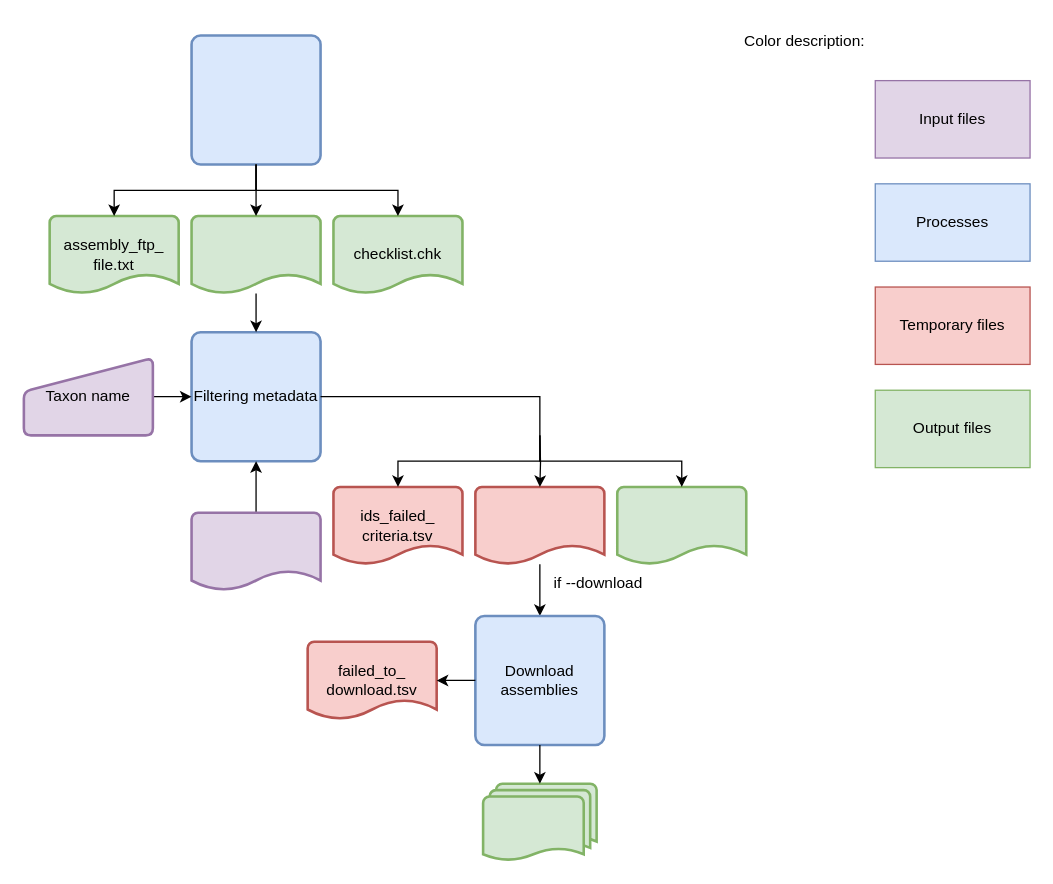
Some shapes in this 1053 by 884 pixel diagram are drawn without their labels. Each missing label, with the centre of its shape:
assemblies_ metadata_ ena661k.tsv: [681,525]
assemblies_ids_to _download.tsv: [539,525]
Criteria table: [255,551]
ena661k_ assemblies: [539,822]
Fetching data relevant for processing if first time running: [255,99]
metadata_file.txt: [255,254]
